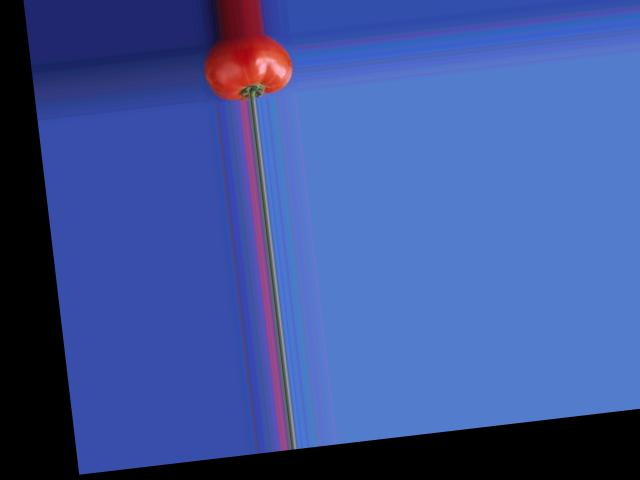tomato: (200, 30, 294, 104)
